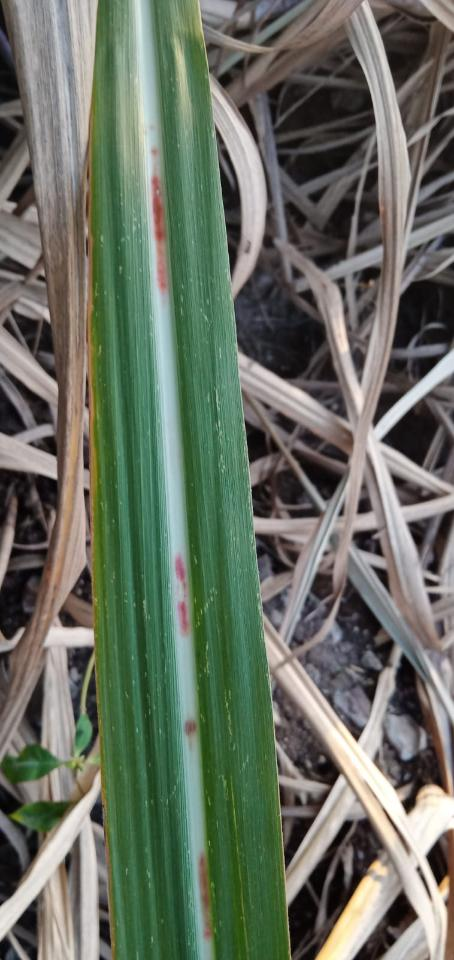RedRot: (146, 123, 170, 295), (172, 550, 193, 641), (198, 851, 213, 943), (182, 716, 199, 751)
